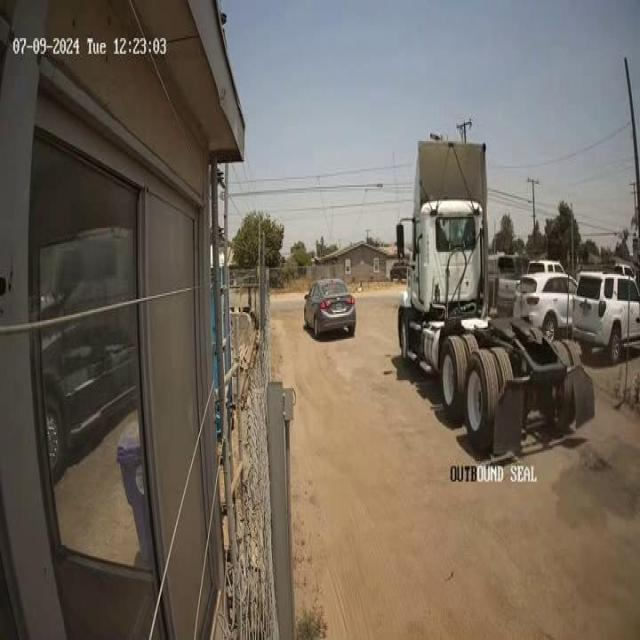TRUCK_OUT: (395, 133, 595, 458)
